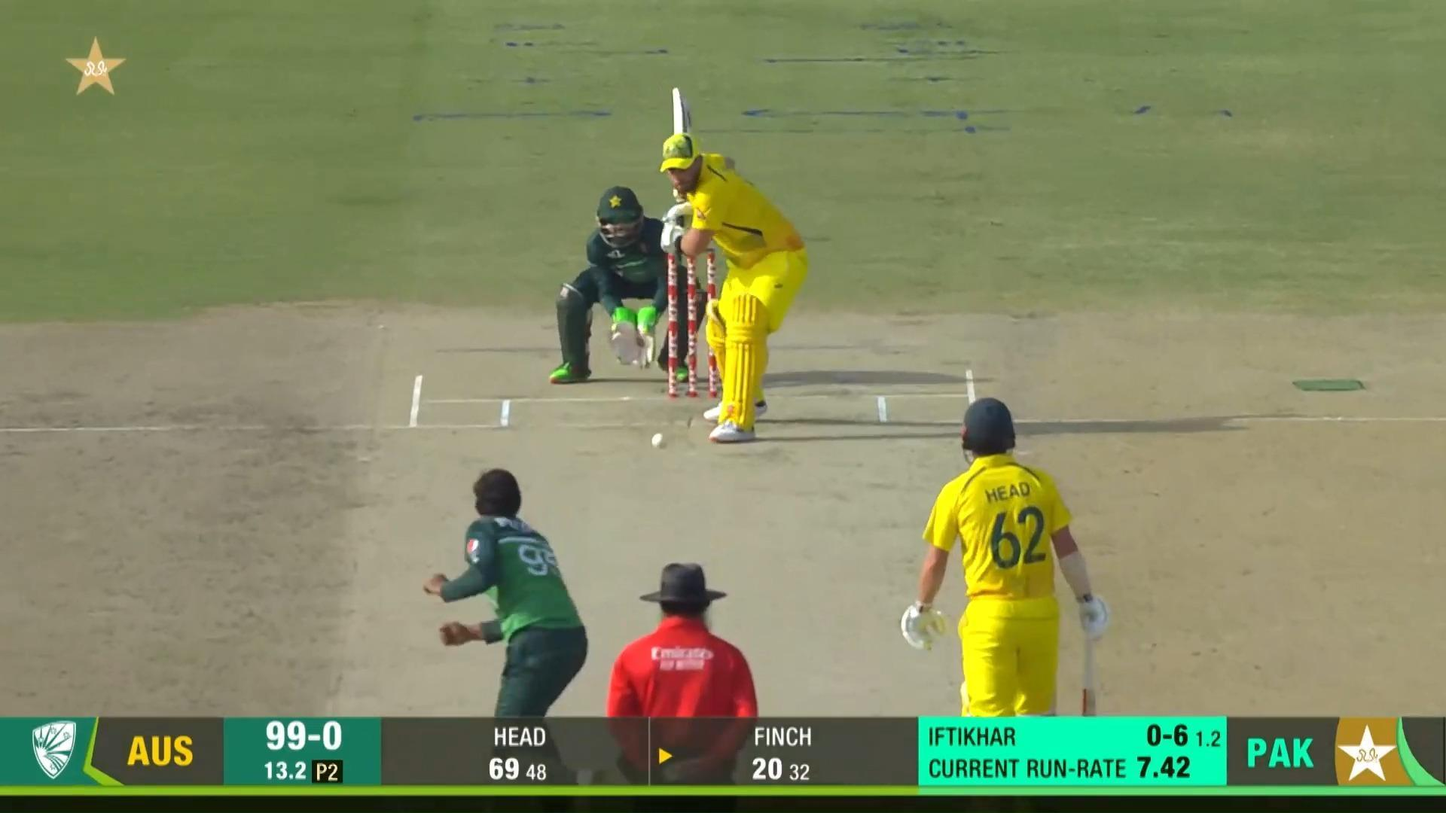BM 1: (659, 85, 807, 444)
BO: (420, 466, 601, 793)
